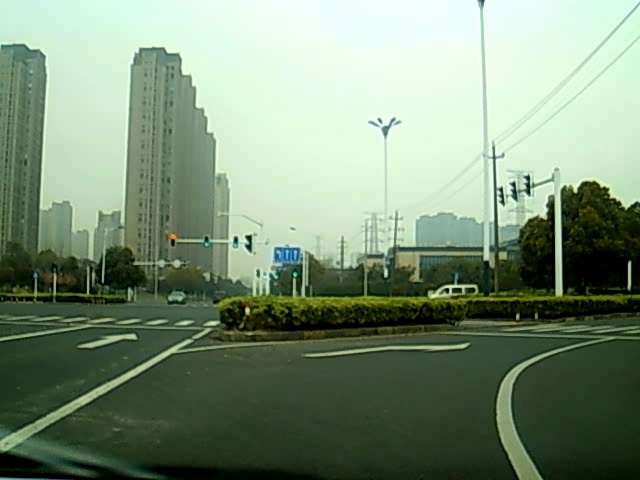Traffic_Light_go: (231, 236, 241, 250), (203, 236, 211, 250)
Traffic_Light_stop: (169, 232, 176, 246)
